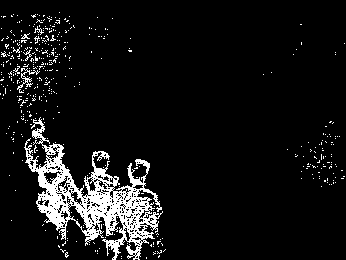person: (38, 142, 86, 250), (115, 154, 164, 257), (82, 149, 121, 255), (24, 121, 53, 190)
